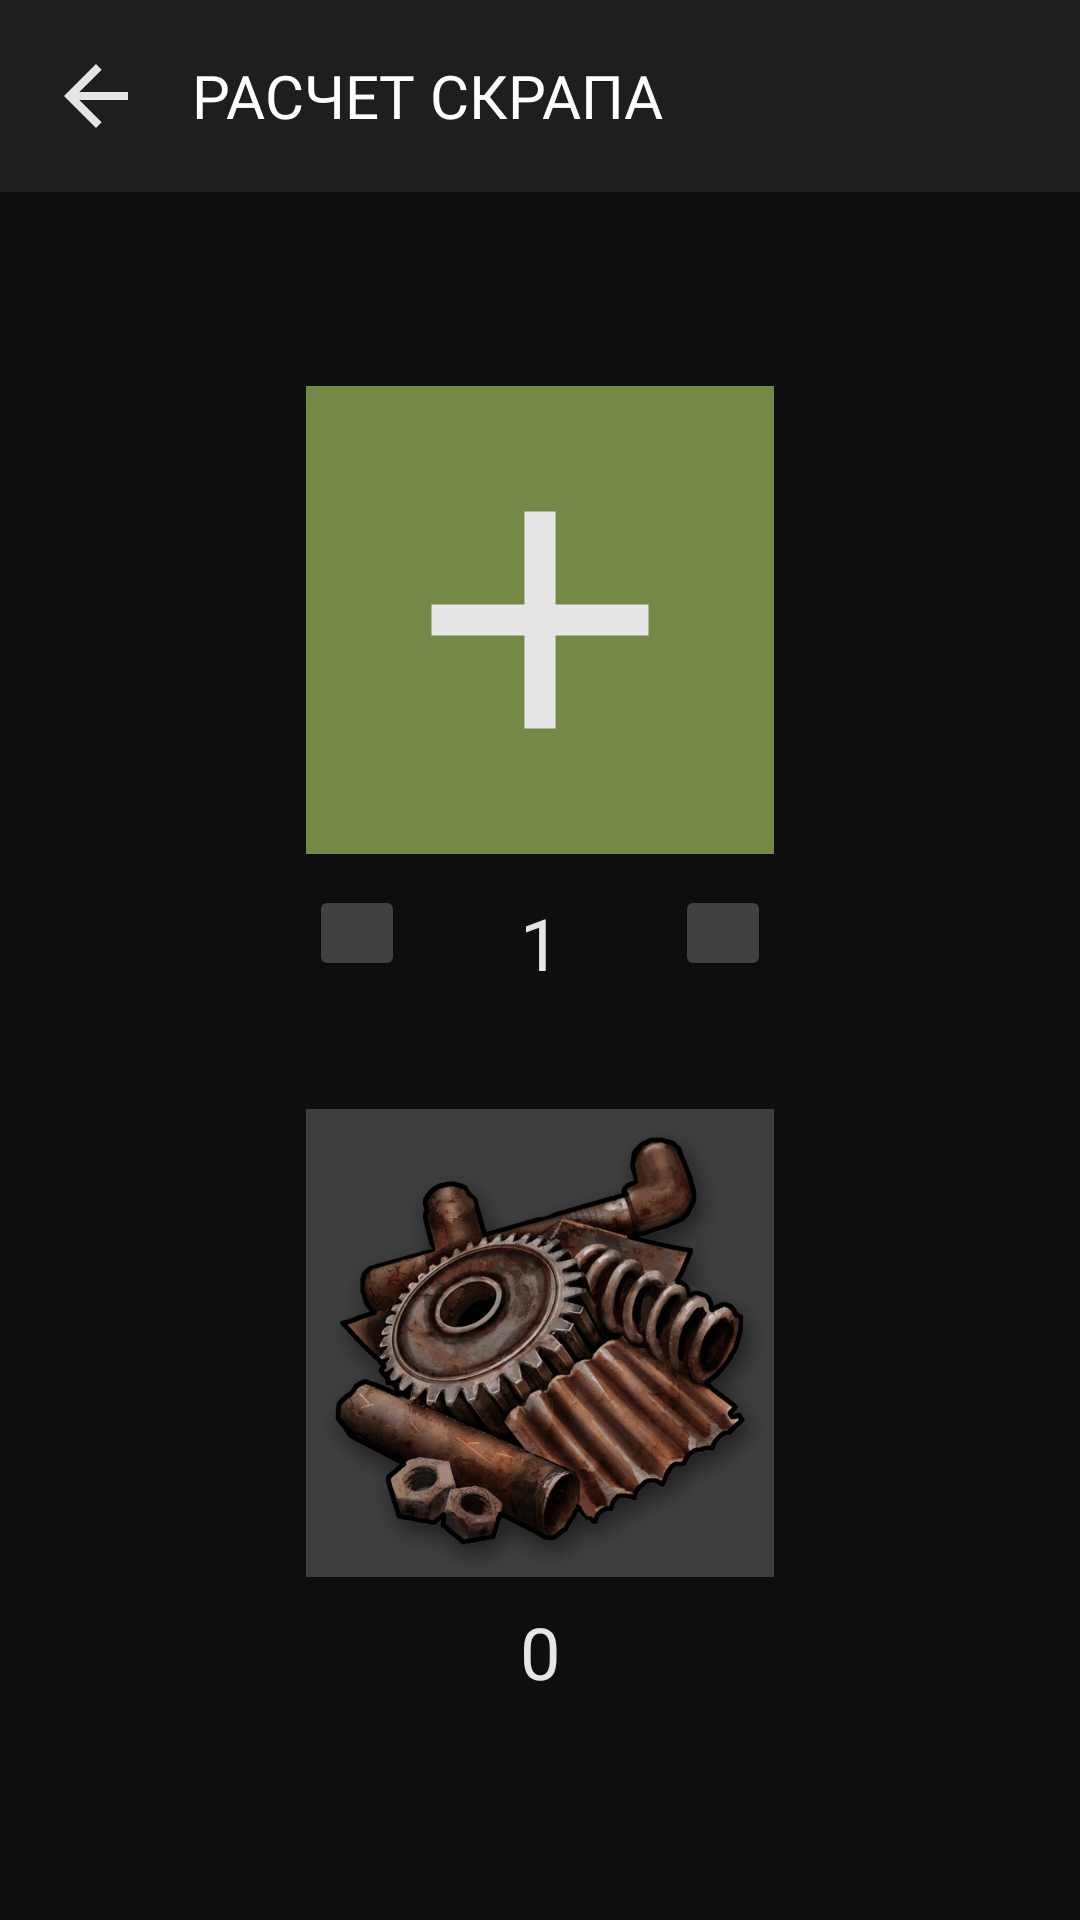

Where icons sit on this 1080*1920 app screen, as (x1=x1, y1=y1, x2=x2, y2=y2):
arrow back: (x1=64, y1=64, x2=128, y2=128)
